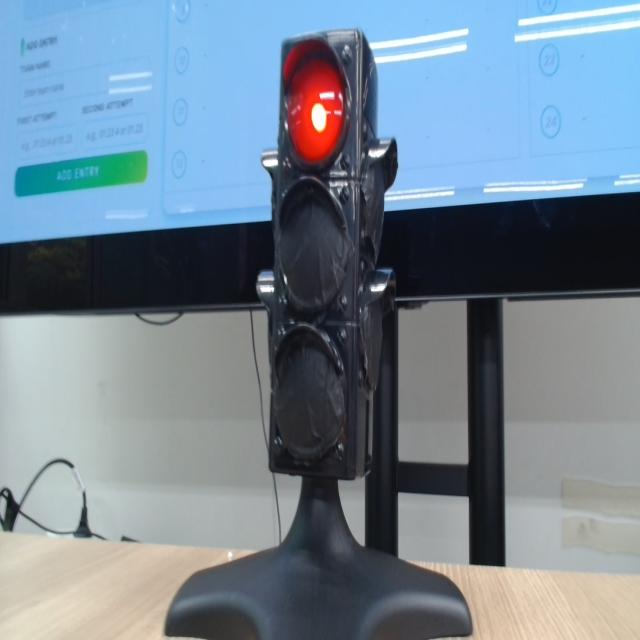red_light: (288, 59, 345, 163)
